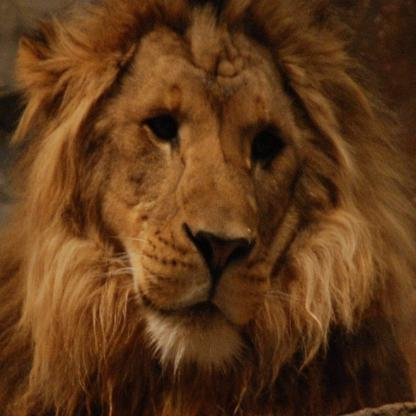lion: (43, 8, 349, 382)
